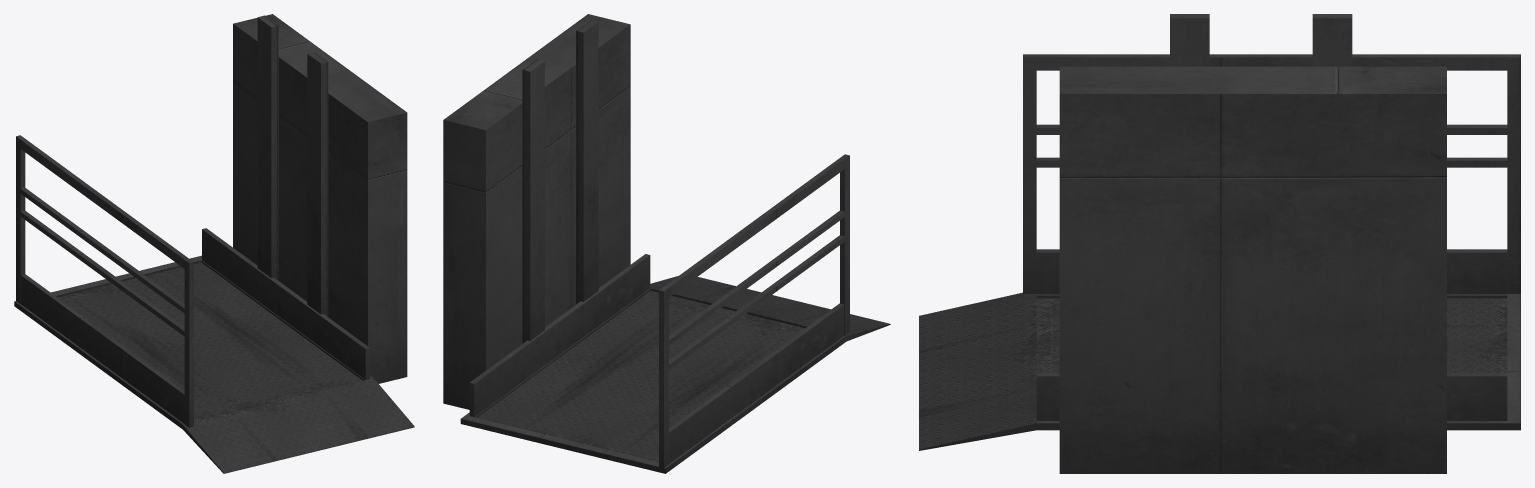
File: OW_Residential_Elevator.FBX
3 renders of one model, left to right at view 1: azimuth 30°, elevation 25°; view 2: azimuth 150°, elevation 25°; view 3: azimuth 270°, elevation 25°, orthographic. The views are drawn at different scales.
Parts seen in each view (by area): view 1: OW_Residential_Elevator; view 2: OW_Residential_Elevator; view 3: OW_Residential_Elevator.
Boxes of the visible parts, bbox=[...] form: OW_Residential_Elevator: bbox=[14, 14, 414, 473]; OW_Residential_Elevator: bbox=[443, 14, 890, 473]; OW_Residential_Elevator: bbox=[919, 14, 1520, 473].
Size of the model in its own units: 66.9 by 82.75 by 104.
